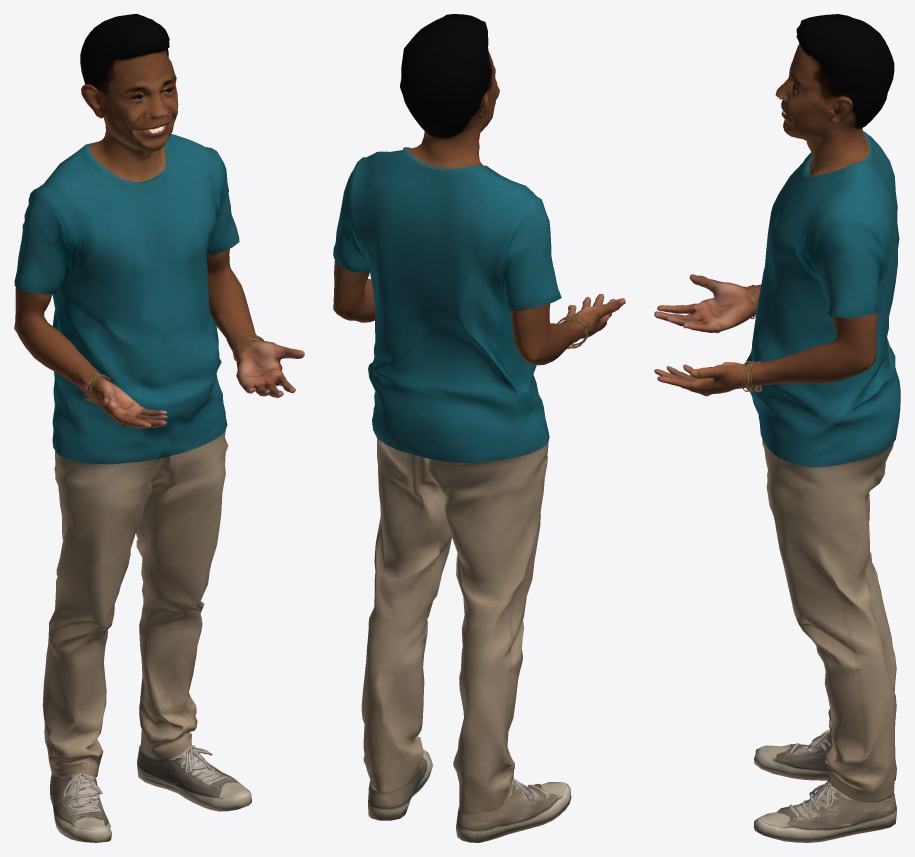
File: speaker-student-m.glb
3 views of the same model, side by side, from view 1: azimuth 30°, elevation 25°; view 2: azimuth 150°, elevation 25°; view 3: azimuth 270°, elevation 25° (orthographic).
Parts seen in each view (by area): view 1: geometry_0; view 2: geometry_0; view 3: geometry_0.
Boxes of the visible parts, x1,y1,x2,y2 form: geometry_0: (14,14,304,842); geometry_0: (333,14,625,842); geometry_0: (654,14,900,842).
Size of the model in its own units: 0.2798 by 0.9507 by 0.271.
1 material, 1 textured.
